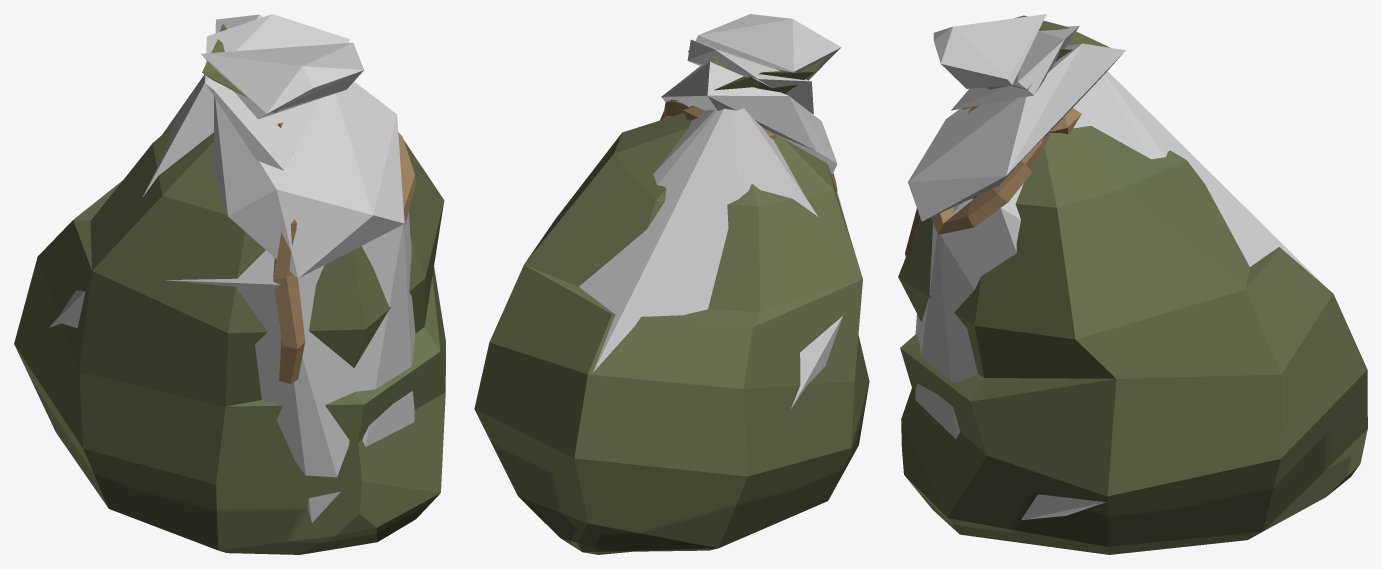
The model's file is SM_Prop_Bundle_02.fbx.
3 views of the same model, side by side, from view 1: azimuth 30°, elevation 25°; view 2: azimuth 150°, elevation 25°; view 3: azimuth 270°, elevation 25° (orthographic). The views are drawn at different scales.
Visible parts, largest first — view 1: SM_Prop_Bundle_02, SM_Prop_Bundle_02_ConvexHulls; view 2: SM_Prop_Bundle_02, SM_Prop_Bundle_02_ConvexHulls; view 3: SM_Prop_Bundle_02, SM_Prop_Bundle_02_ConvexHulls.
Part boxes in pixels (bbox=[...]): SM_Prop_Bundle_02: bbox=[14, 23, 445, 554]; SM_Prop_Bundle_02_ConvexHulls: bbox=[49, 14, 415, 522]; SM_Prop_Bundle_02: bbox=[474, 50, 869, 554]; SM_Prop_Bundle_02_ConvexHulls: bbox=[579, 14, 847, 408]; SM_Prop_Bundle_02: bbox=[898, 15, 1367, 554]; SM_Prop_Bundle_02_ConvexHulls: bbox=[908, 14, 1323, 520].
Size of the model in its own units: 83.01 by 96.51 by 103.
Materials: 2 (1 with a texture image).
